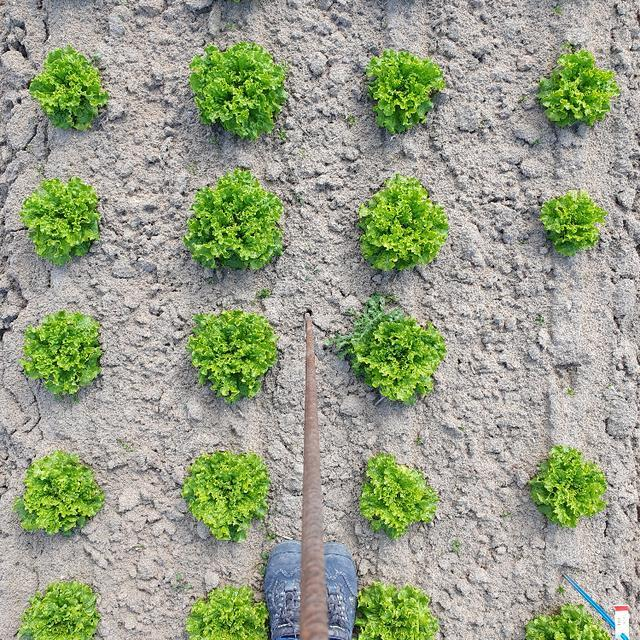Lettuce: (182, 168, 292, 275), (192, 38, 292, 144), (345, 298, 445, 402), (352, 178, 452, 280), (182, 306, 286, 402), (185, 445, 275, 545), (357, 445, 445, 540), (18, 450, 107, 542), (20, 173, 107, 267), (23, 307, 110, 400), (527, 442, 615, 532), (362, 47, 452, 135), (27, 45, 113, 132), (533, 47, 615, 130), (18, 575, 110, 640), (349, 583, 441, 640), (186, 578, 268, 640), (538, 188, 615, 254), (538, 190, 608, 253), (525, 600, 610, 640)
